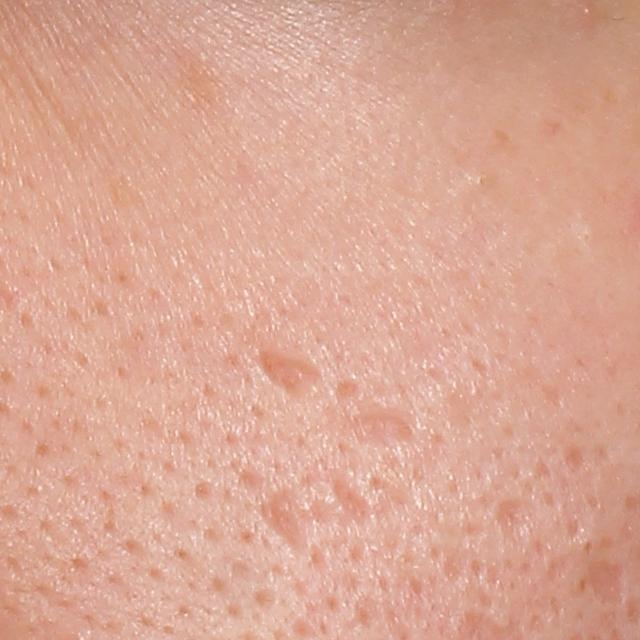atrophic_scar: (242, 346, 332, 405), (257, 483, 302, 554), (585, 552, 633, 612), (329, 478, 376, 528), (351, 412, 416, 444), (493, 500, 536, 535), (562, 441, 596, 475), (333, 373, 365, 407)
comedo: (581, 2, 594, 20)
